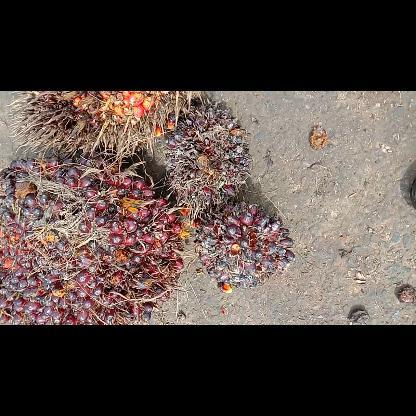TBS abnormal: (164, 101, 252, 221), (194, 200, 298, 290)
TBS masak: (0, 155, 184, 324)
Terlalu masak: (8, 92, 202, 170)
